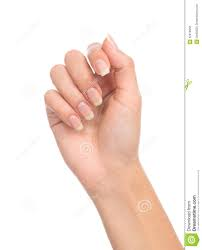hand: (34, 25, 164, 183)
